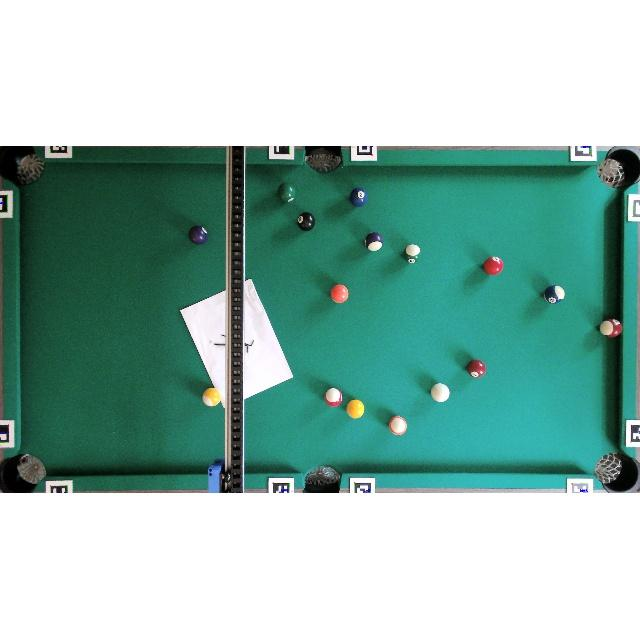cue ball: (430, 383, 450, 402)
other: (402, 243, 423, 265), (600, 318, 622, 338), (484, 256, 504, 275), (544, 285, 564, 304), (188, 225, 208, 244), (346, 399, 365, 418), (202, 388, 221, 407), (350, 187, 368, 207), (365, 232, 383, 252), (278, 183, 296, 203), (389, 416, 407, 435), (467, 360, 486, 378), (325, 388, 343, 407), (331, 284, 348, 304), (297, 212, 315, 230)
